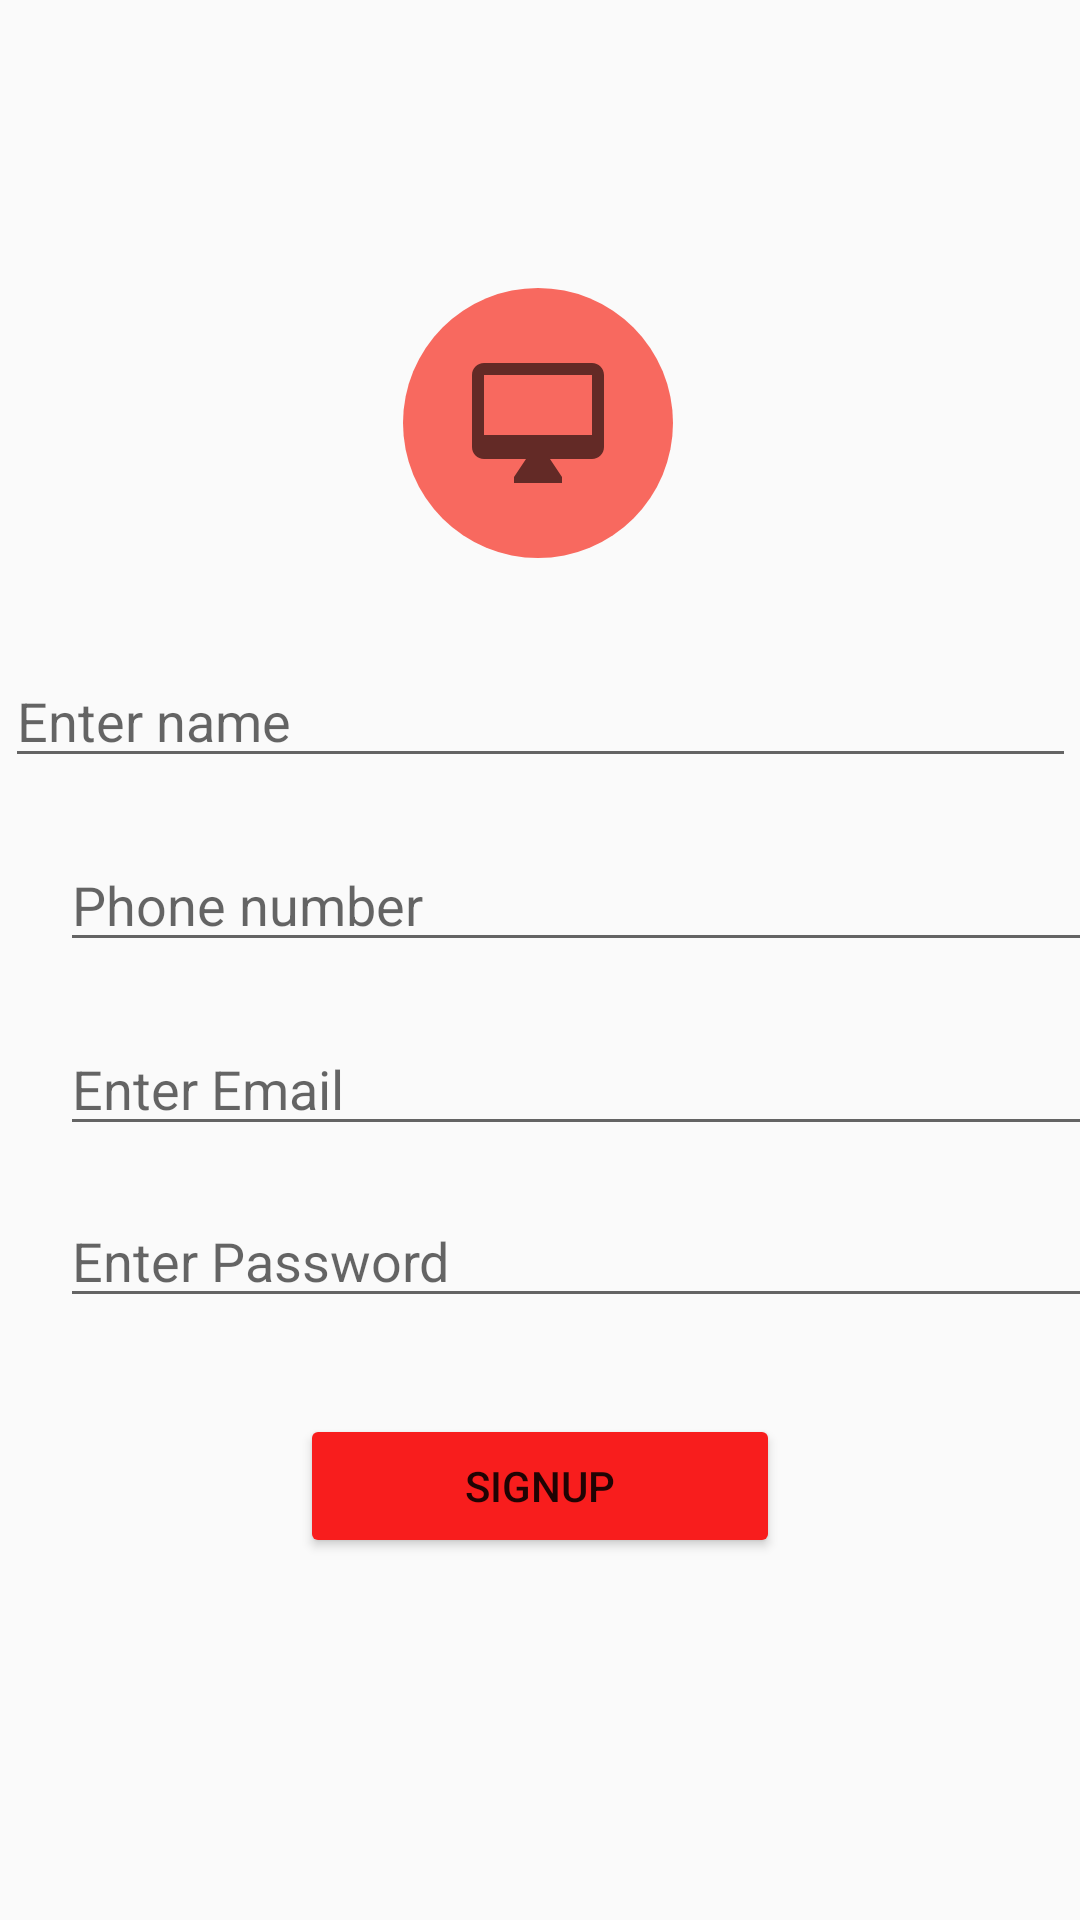

Screen size 1080w x 1920h. Icon name, then its box in pixels as (x1, y1, x2, y2):
desktop mac: (403, 288, 673, 558)
